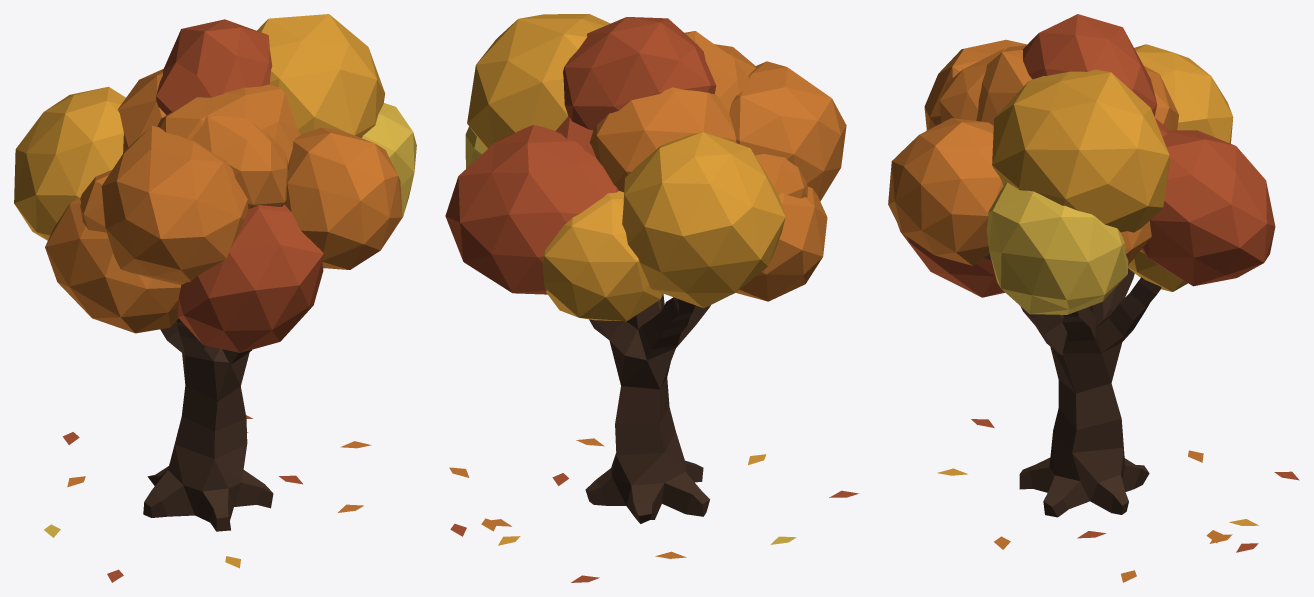
File: SM_Tree_Oak_Autumn_04.glb
3 renders of one model, left to right at view 1: azimuth 30°, elevation 25°; view 2: azimuth 150°, elevation 25°; view 3: azimuth 270°, elevation 25°, orthographic.
Parts seen in each view (by area): view 1: SM_Tree_Oak_Autumn_04; view 2: SM_Tree_Oak_Autumn_04; view 3: SM_Tree_Oak_Autumn_04.
Part boxes in pixels (bbox=[...]): SM_Tree_Oak_Autumn_04: bbox=[14, 14, 416, 582]; SM_Tree_Oak_Autumn_04: bbox=[445, 14, 858, 582]; SM_Tree_Oak_Autumn_04: bbox=[888, 14, 1299, 582].
Size of the model in its own units: 3.44 by 4.53 by 3.55.
